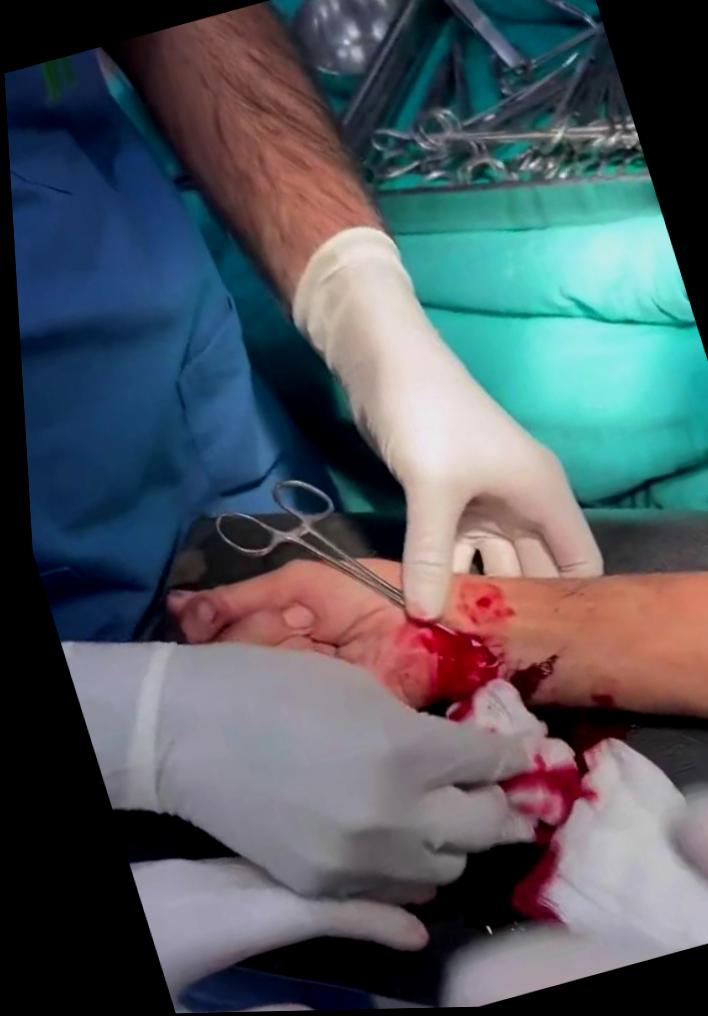Fire: (387, 579, 574, 925), (575, 697, 632, 720)
